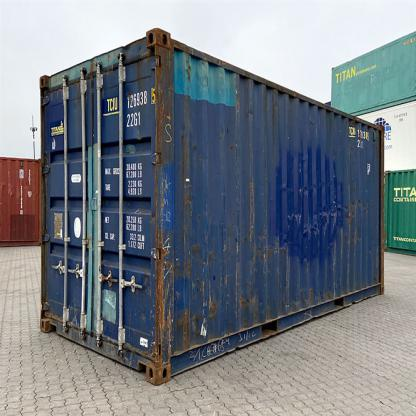Damage: (172, 53, 266, 340), (266, 94, 344, 312), (143, 34, 171, 379), (344, 127, 380, 284), (84, 54, 124, 70)
